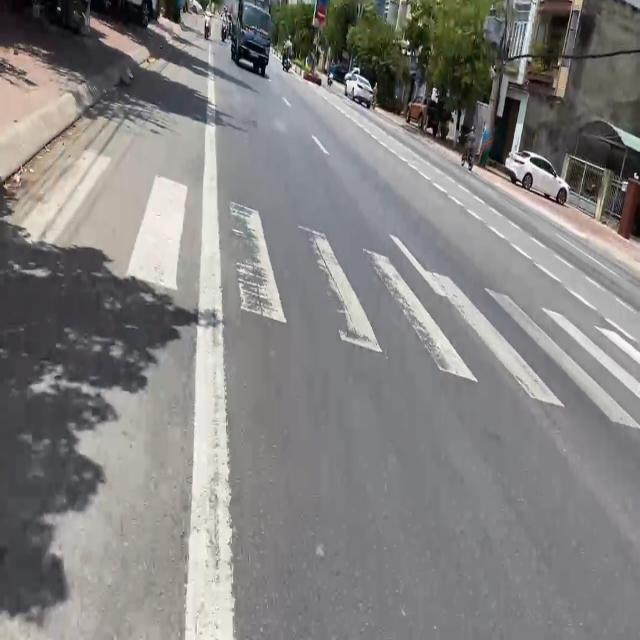walk-crossing: (43, 186, 640, 420)
